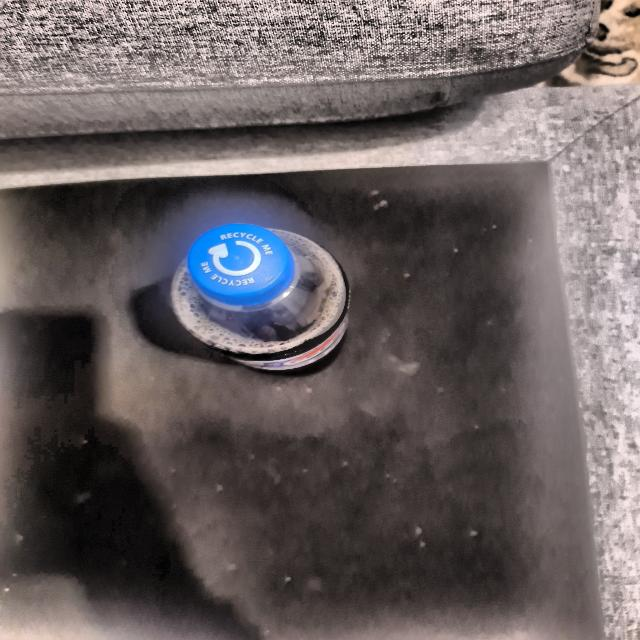pepsi-bottle: (174, 229, 347, 387)
